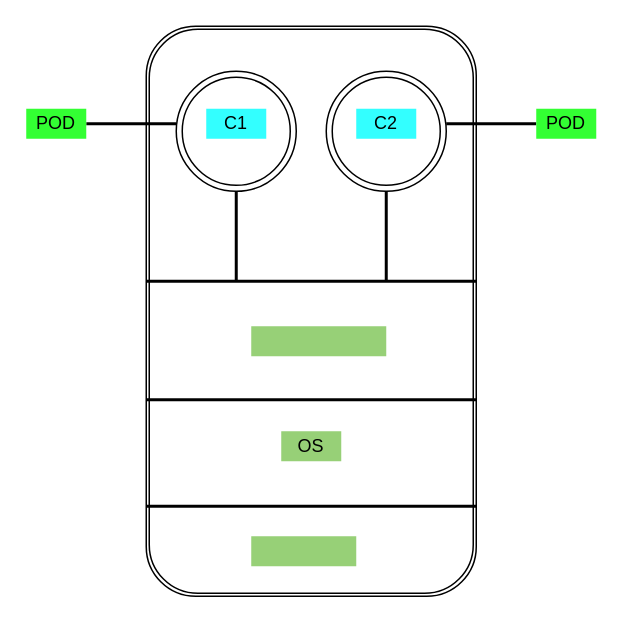
Some shapes in this 621 by 623 pixel diagram are drawn without their labels. Here are the shapes that lost their labels. From the top down, the centre of each, then its label:
the point at 318,341: CRE ,K8S
the point at 303,551: HARDWARE
